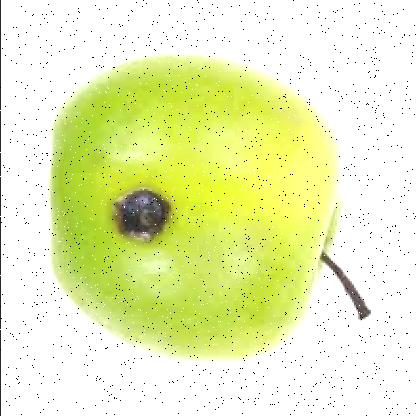damaged_apple: (52, 56, 348, 366)
